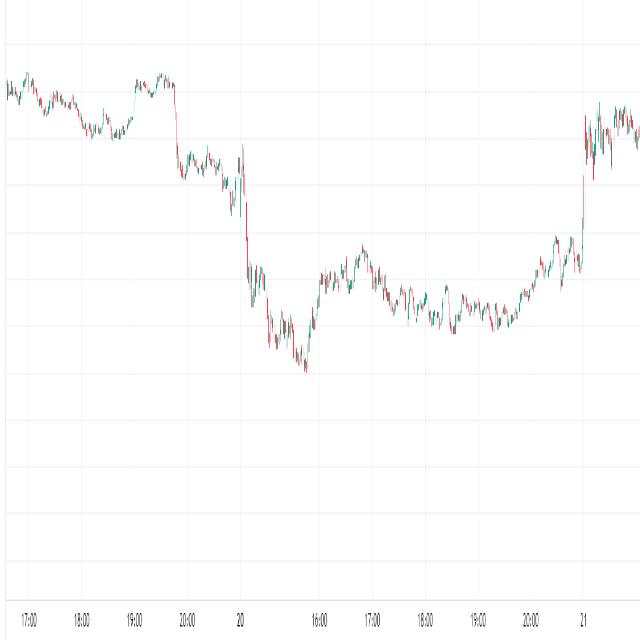Rounding-Bottom: (363, 245, 555, 345)
